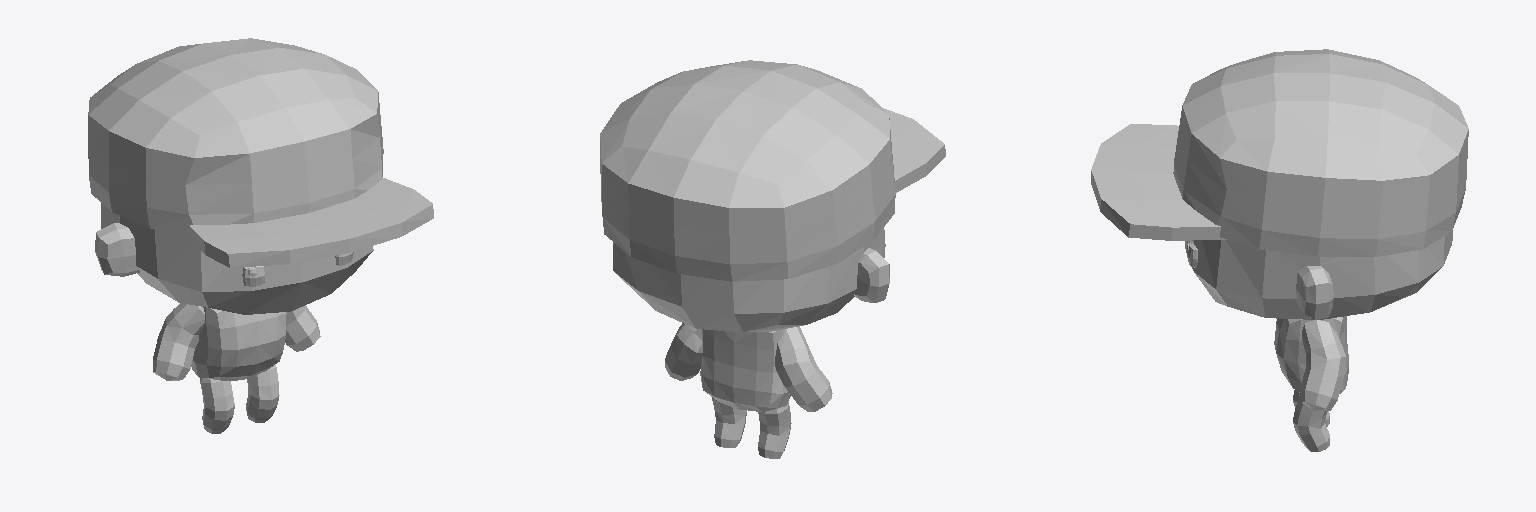
Rendered from idle_0001.obj.
3 renders of one model, left to right at view 1: azimuth 30°, elevation 25°; view 2: azimuth 150°, elevation 25°; view 3: azimuth 270°, elevation 25°, orthographic.
Parts seen in each view (by area): view 1: Object_41, Object_42, Object_36, Object_44, Object_38; view 2: Object_41, Object_36, Object_44, Object_42; view 3: Object_41, Object_36, Object_42, Object_44.
Part boxes in pixels (left/top/right/bottom): Object_41: left=88, top=38, right=383, bottom=235; Object_42: left=185, top=114, right=433, bottom=267; Object_36: left=95, top=203, right=373, bottom=314; Object_44: left=153, top=303, right=320, bottom=433; Object_38: left=242, top=252, right=353, bottom=286; Object_41: left=600, top=60, right=895, bottom=281; Object_36: left=613, top=228, right=889, bottom=331; Object_44: left=665, top=323, right=832, bottom=458; Object_42: left=883, top=108, right=945, bottom=192; Object_41: left=1182, top=49, right=1468, bottom=256; Object_36: left=1185, top=230, right=1452, bottom=319; Object_42: left=1091, top=106, right=1226, bottom=240; Object_44: left=1274, top=316, right=1348, bottom=451.
Bounding box in the file's own units: 0.9691 × 1.21 × 1.13.